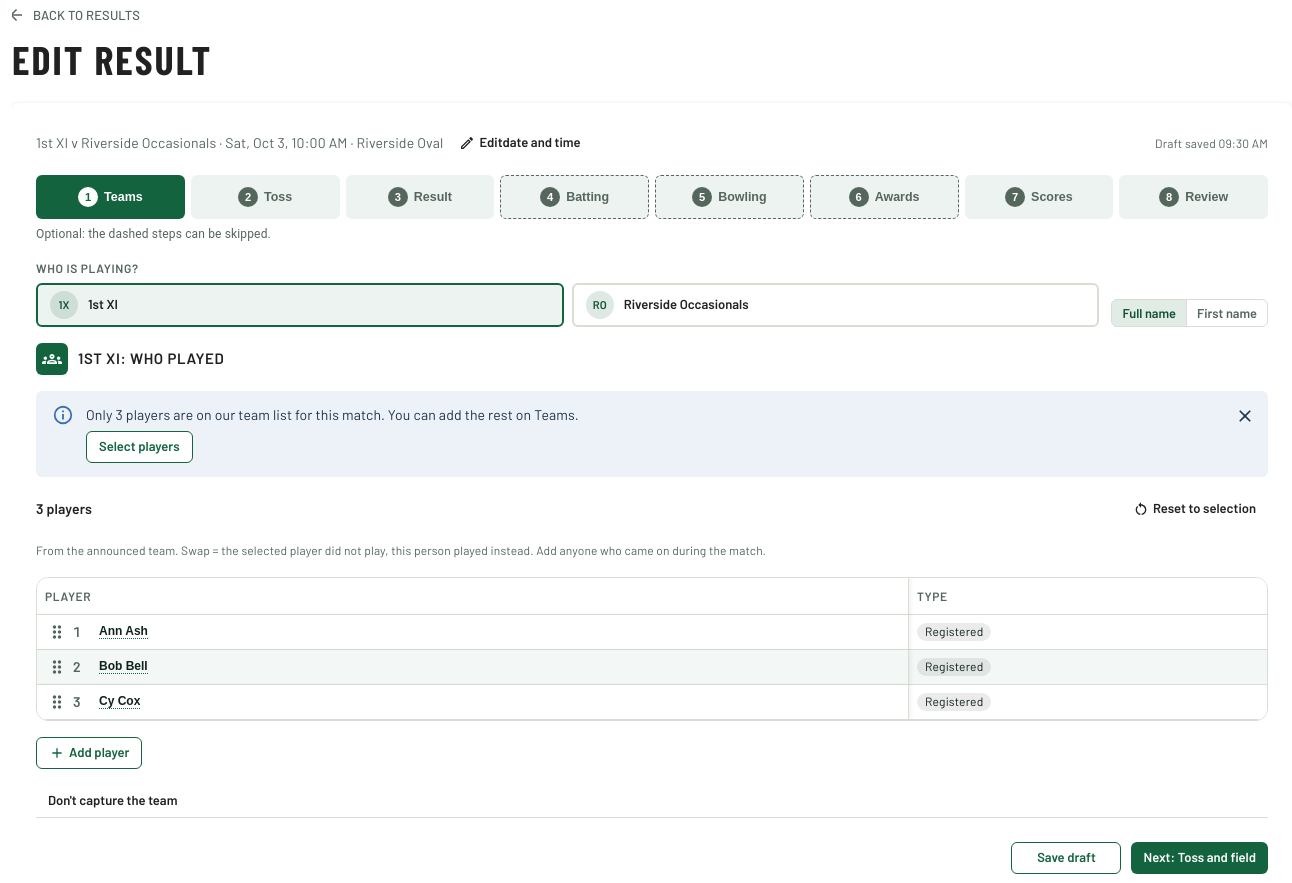
Scenario: Batting to Bowling › fills zeros on a batter who played and creates the bowler row from a dismissal
This screenshot has width=1292, height=883.
Expected: the heading "Edit result" is shown, [12,35,212,83]
Click the button "4 Batting" at {"x": 575, "y": 197}, box [500,175,649,219]
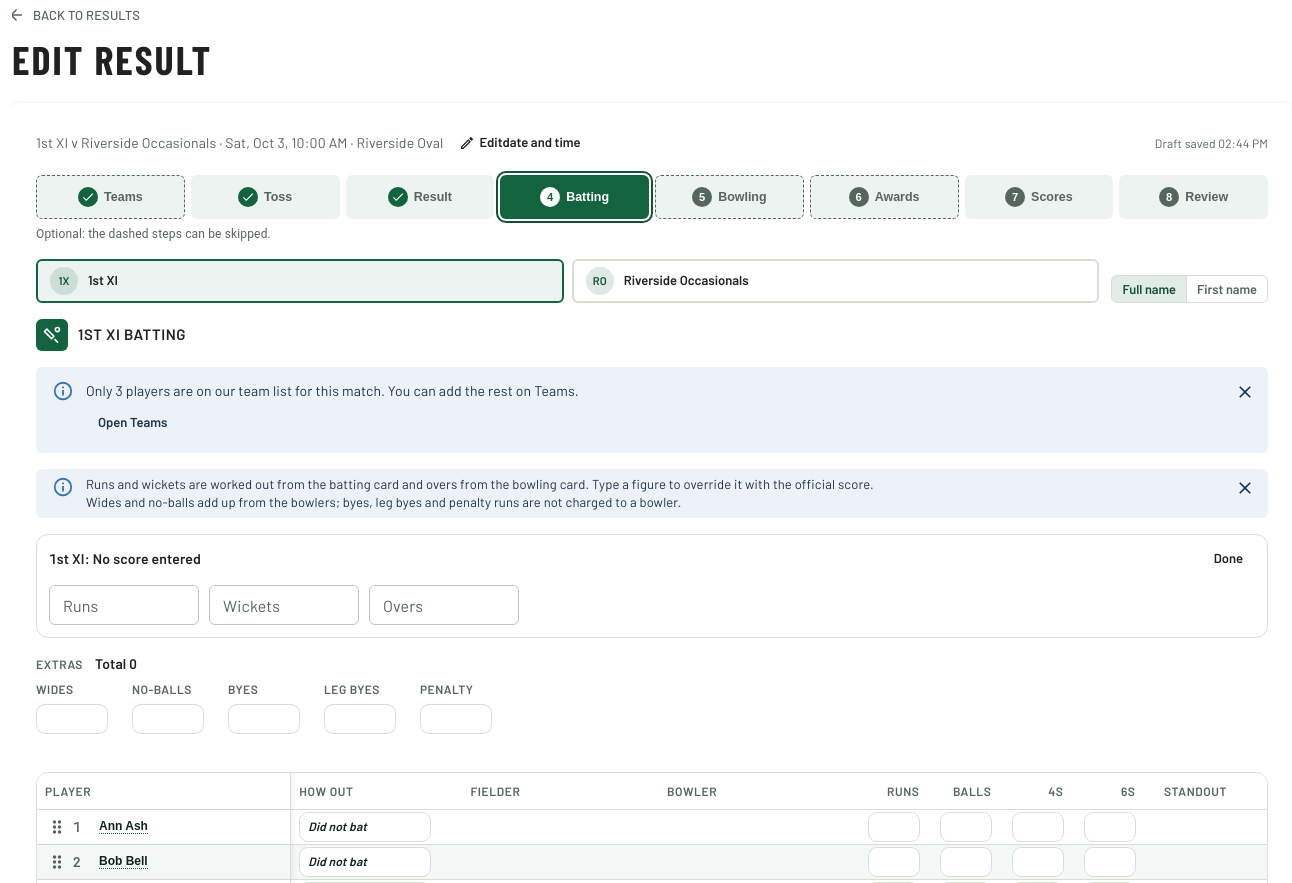
Type "b" into the dropdown named "How out, Ann Ash" at {"x": 365, "y": 827}, box [300,813,430,841]
Then press Enter
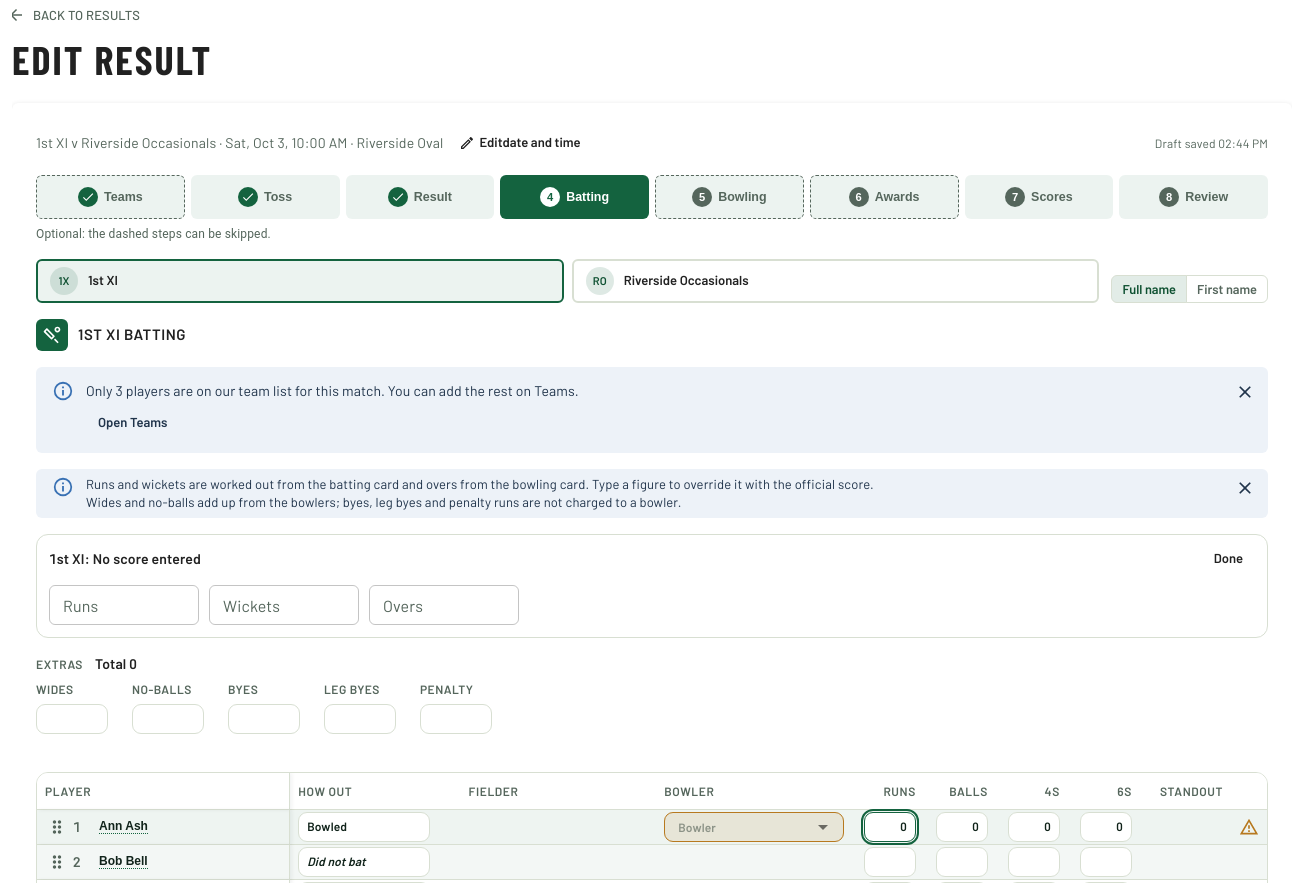
Expected: the dropdown named "How out, Ann Ash" holds "Bowled", [299,813,429,841]
Expected: the field named "Runs, Ann Ash" holds "0", [865,813,915,841]
Expected: the field named "Balls, Ann Ash" holds "0", [937,813,987,841]
Click the dropdown named "Bowler, Ann Ash" at {"x": 738, "y": 827}, box [670,816,805,838]
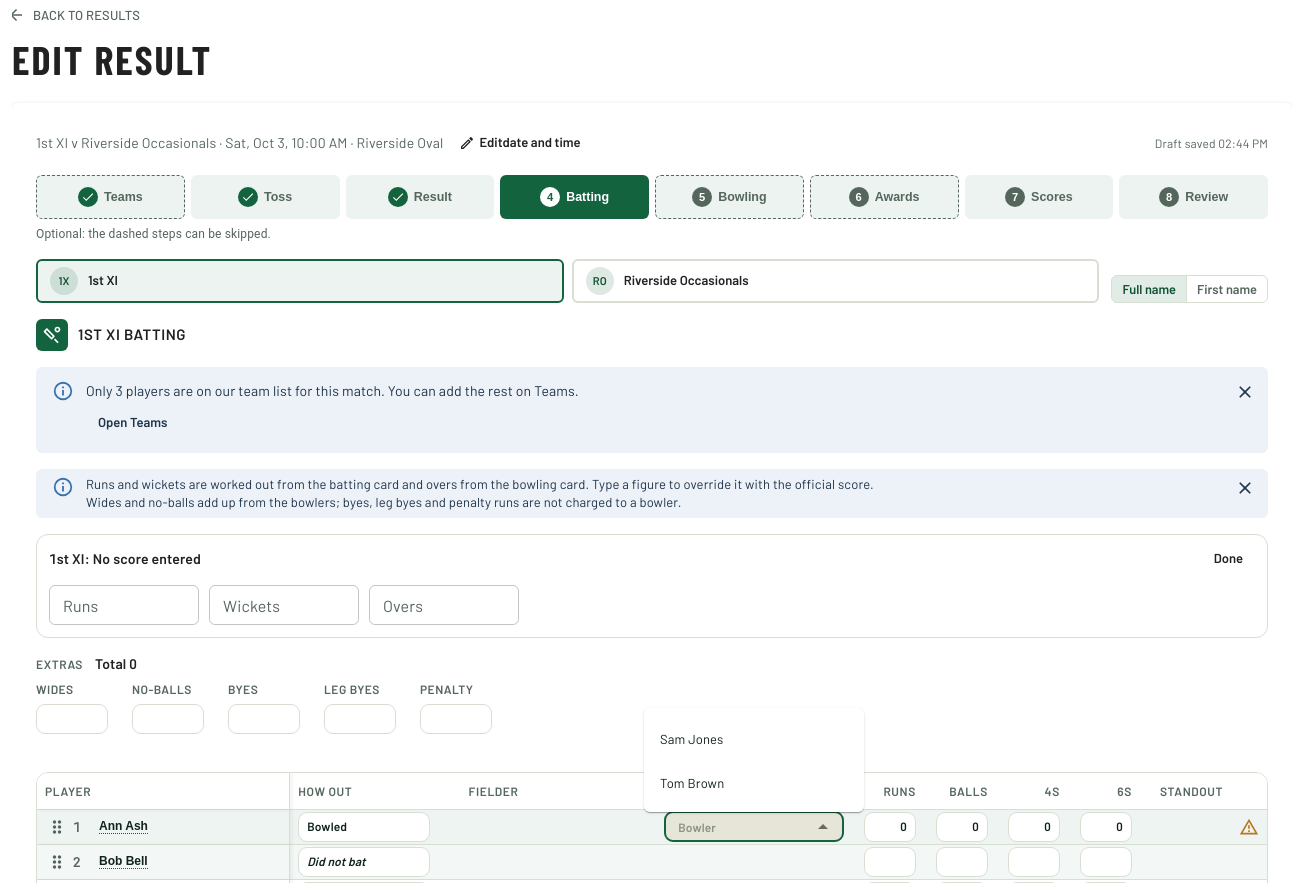
Click the option "Sam Jones" at {"x": 692, "y": 739}, box [660,731,724,747]
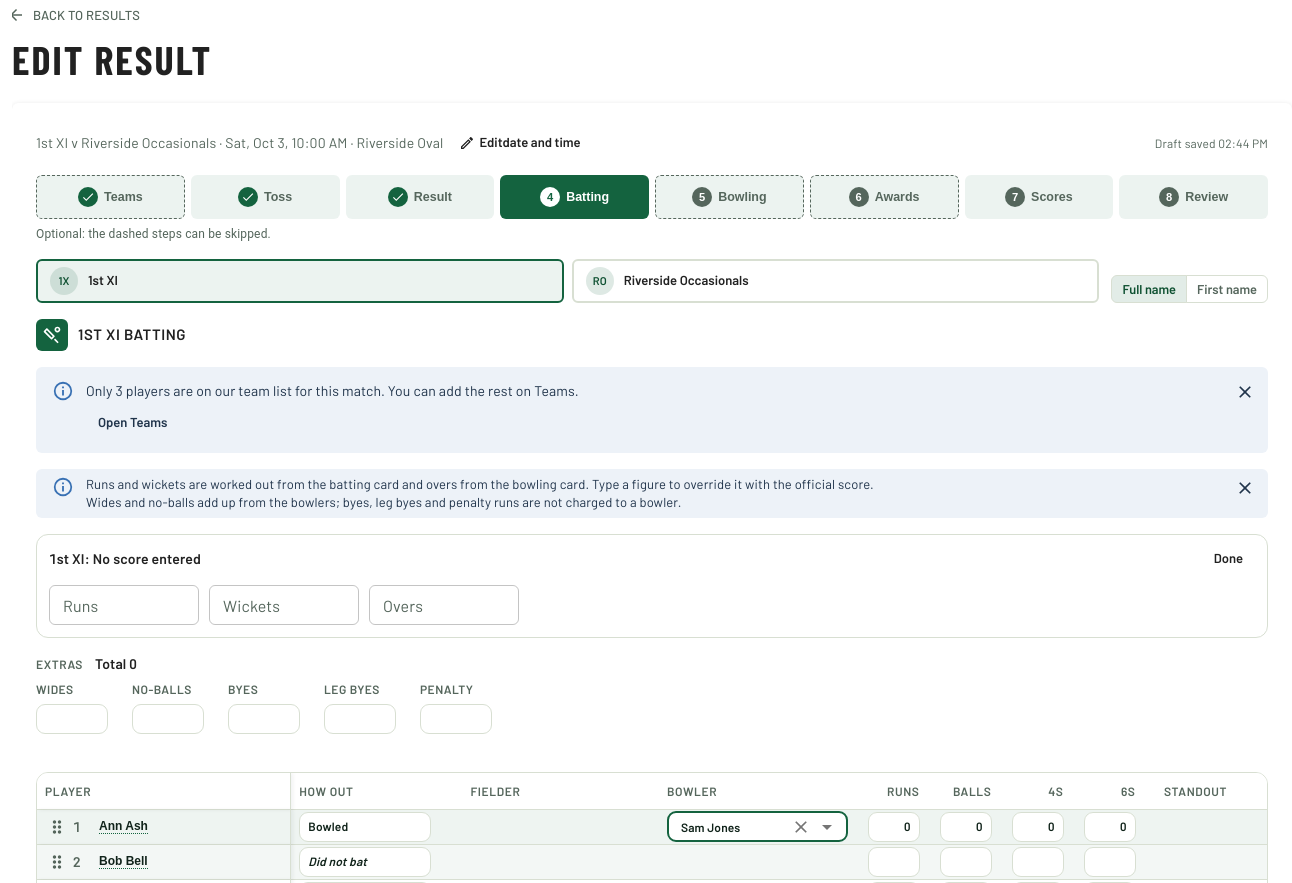
Click the button "5 Bowling" at {"x": 729, "y": 197}, box [655,175,804,219]
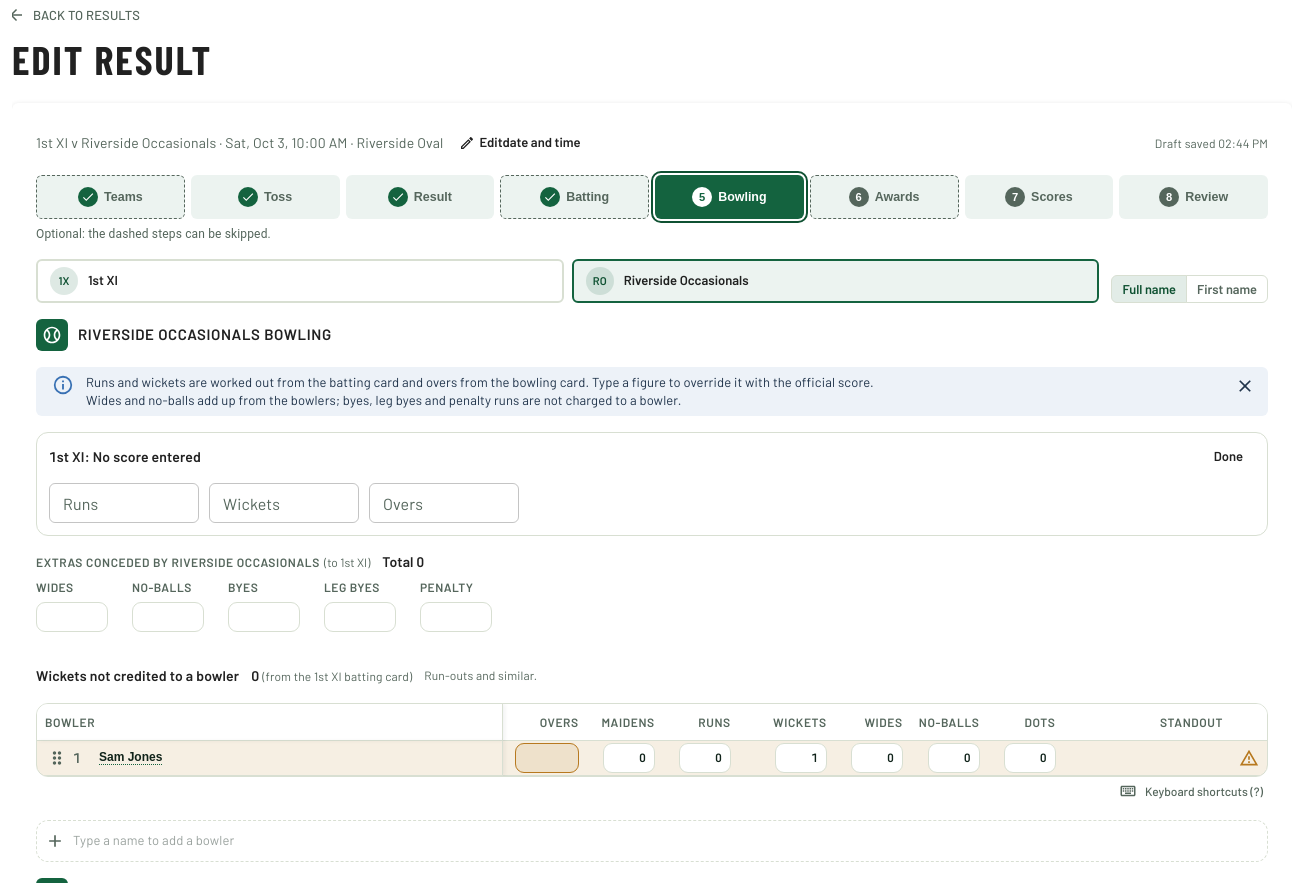
Expected: the field named "Wickets, Sam Jones" holds "1", [776,744,826,772]
Expected: the field named "Overs, Sam Jones" is shown, [515,743,579,773]
